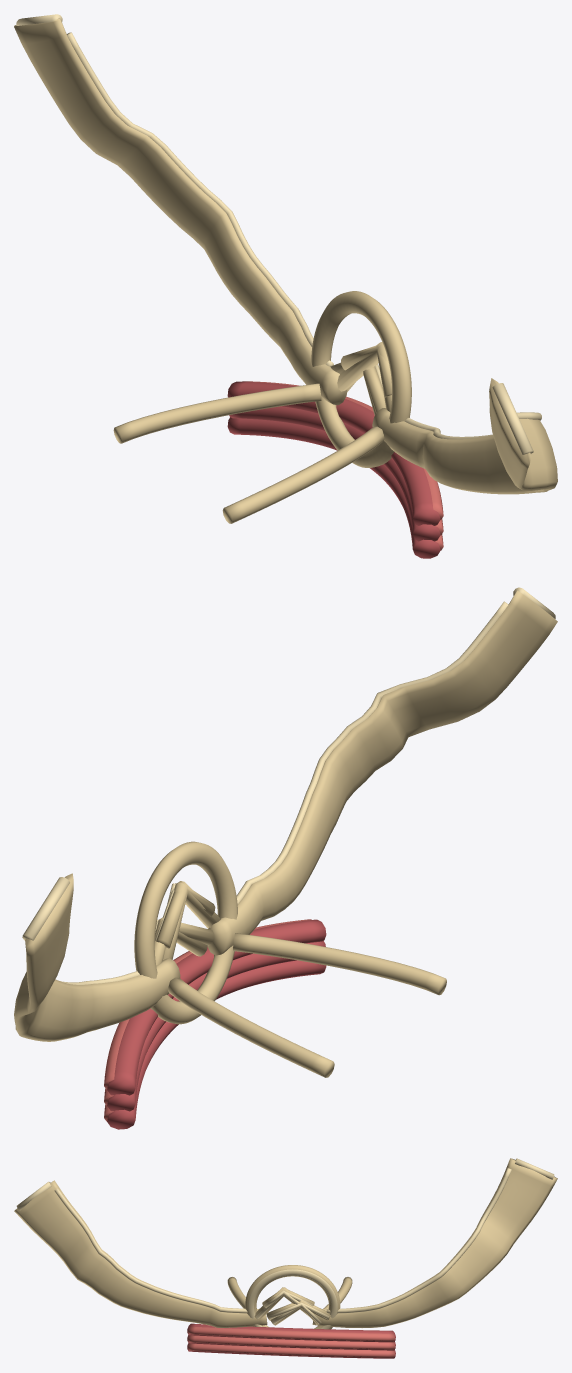
The model's file is side_oharu_crown_gold.glb.
3 renders of one model, top to bottom at view 1: azimuth 30°, elevation 25°; view 2: azimuth 150°, elevation 25°; view 3: azimuth 270°, elevation 25°, orthographic. The views are drawn at different scales.
Visible parts, largest first — view 1: aged_gold, red_binding_shadow, polished_edges, red_binding; view 2: aged_gold, red_binding_shadow, polished_edges, red_binding; view 3: aged_gold, red_binding, polished_edges, red_binding_shadow.
Part boxes in pixels (x1,y1,x2,y2): aged_gold: (14, 18, 557, 523); red_binding_shadow: (227, 381, 440, 558); polished_edges: (16, 14, 541, 454); red_binding: (242, 381, 443, 550); aged_gold: (14, 590, 557, 1077); red_binding_shadow: (107, 919, 326, 1129); polished_edges: (22, 587, 555, 984); red_binding: (104, 919, 311, 1121); aged_gold: (14, 1158, 557, 1329); red_binding: (188, 1326, 394, 1357); polished_edges: (16, 1158, 554, 1329); red_binding_shadow: (187, 1323, 395, 1358).
Bounding box in the file's own units: 3.43 × 5.17 × 13.91.
